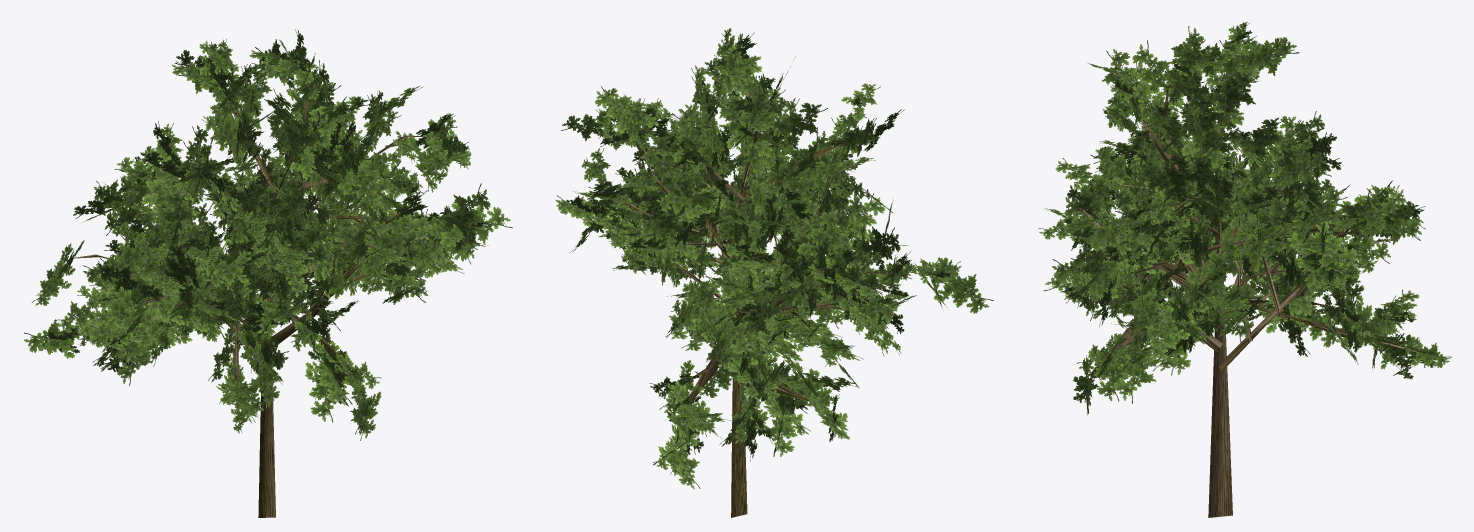
3 views of the same model, side by side, from view 1: azimuth 30°, elevation 25°; view 2: azimuth 150°, elevation 25°; view 3: azimuth 270°, elevation 25° (orthographic). The views are drawn at different scales.
Visible parts, largest first — view 1: branches, branches.001; view 2: branches, branches.001; view 3: branches, branches.001.
Part boxes in pixels (x1,y1,x2,y2): branches: (24,29,512,440); branches.001: (66,65,457,517); branches: (555,28,993,489); branches.001: (590,89,949,517); branches: (1038,21,1451,415); branches.001: (1076,44,1418,517).
Size of the model in its own units: 16.34 by 18.56 by 14.29.
2 materials, 2 textured.
